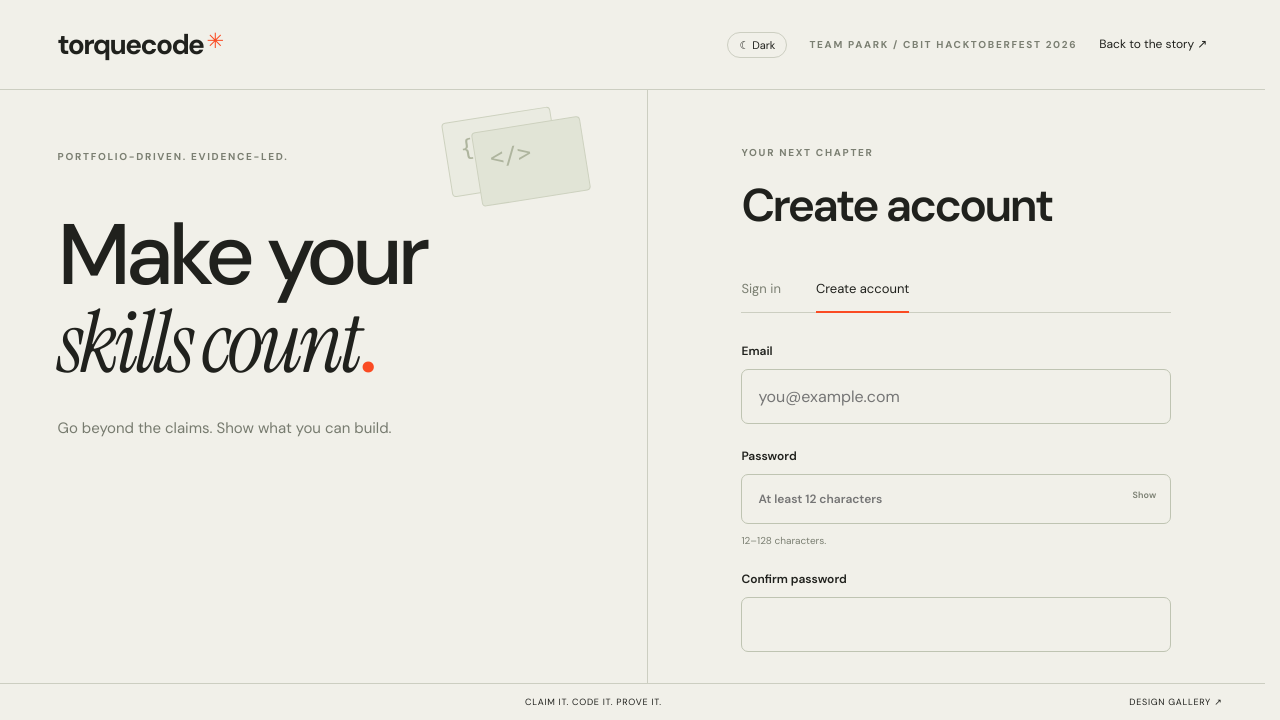
Test: live auth (K2) › registers (201), signs in, and lands on the portfolio step
Step 1. Type "candidate@example.org" into the field labelled "Email" → (956, 396), box [742,369,1172,424]
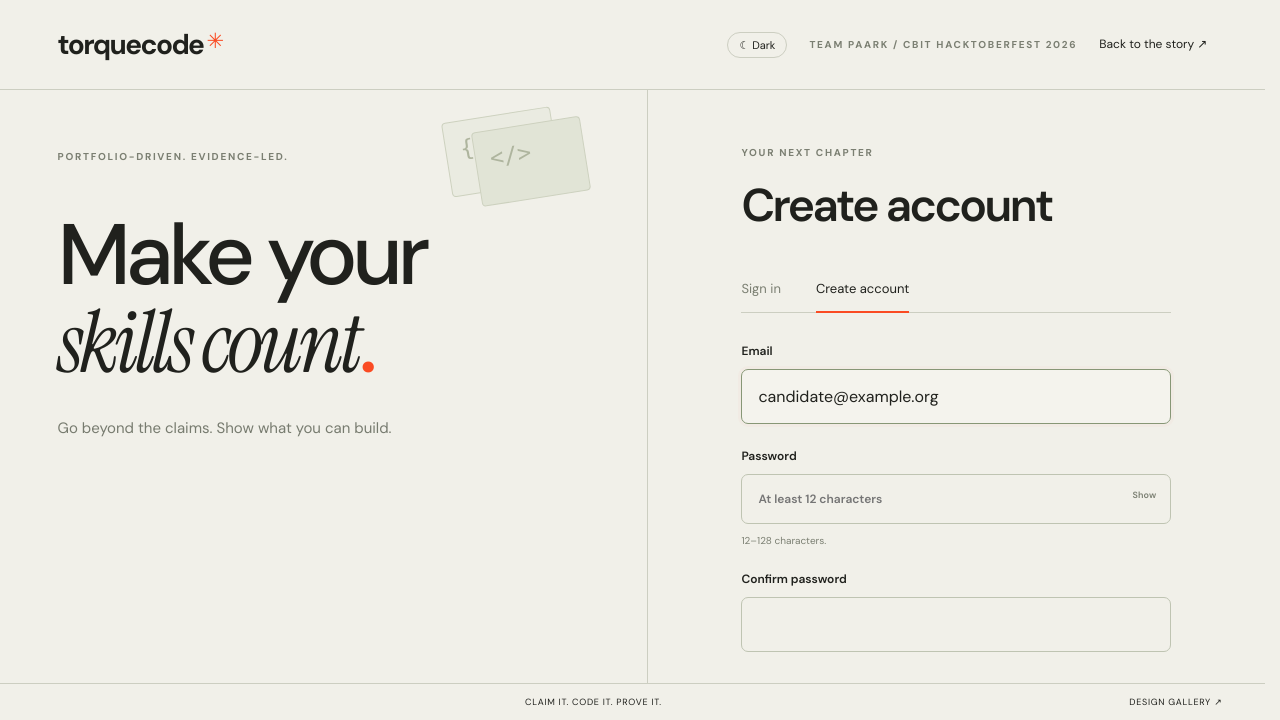
Step 2. Type "correct horse battery" into the password field labelled "Password Show 12–128 characters." → (956, 499), box [742,474,1172,524]
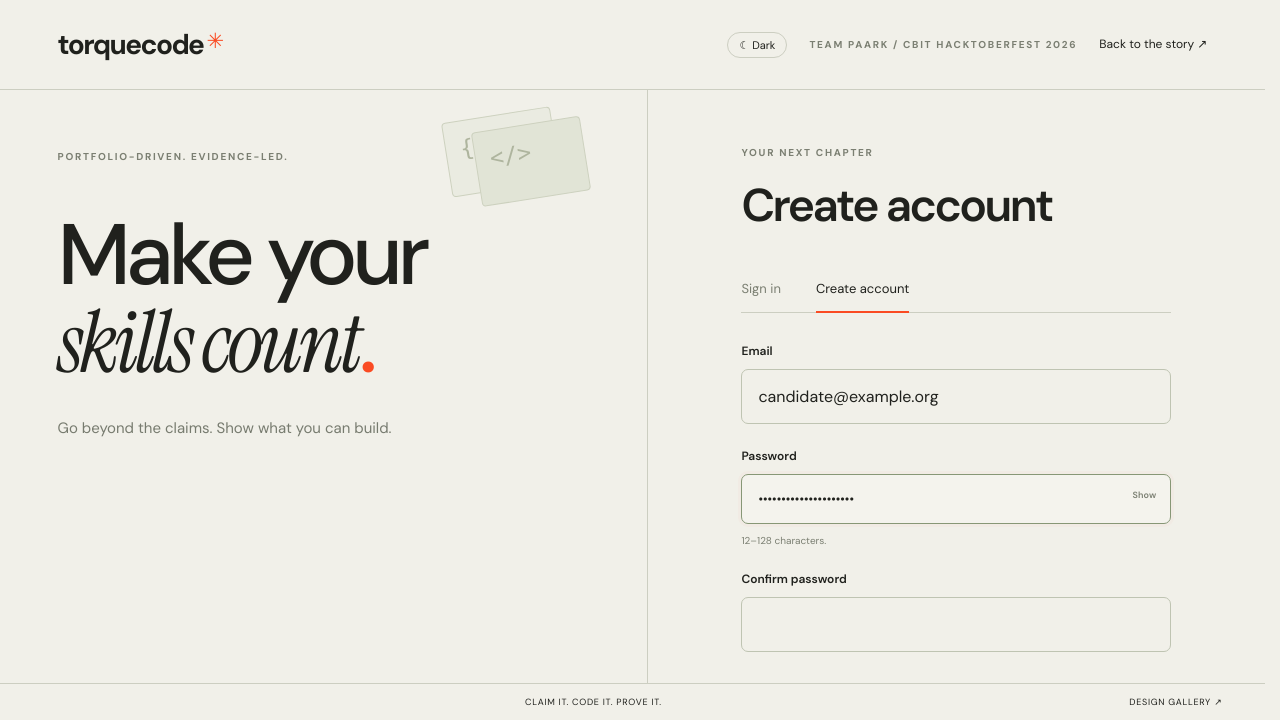
Step 3. Type "correct horse battery" into the password field labelled "Confirm password" → (956, 624), box [742,597,1172,652]
(page scrolled)
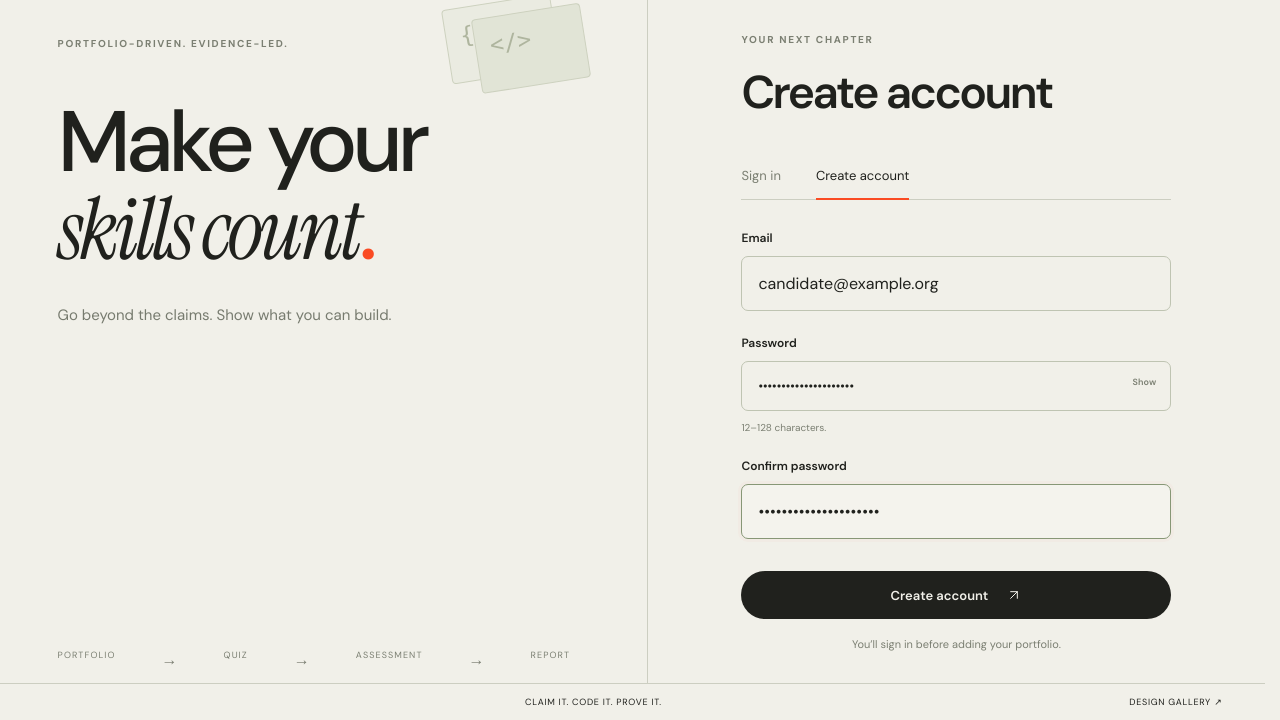
Step 4. Click the button "Create account" → click(956, 595), box [742,571,1172,619]
(page scrolled)
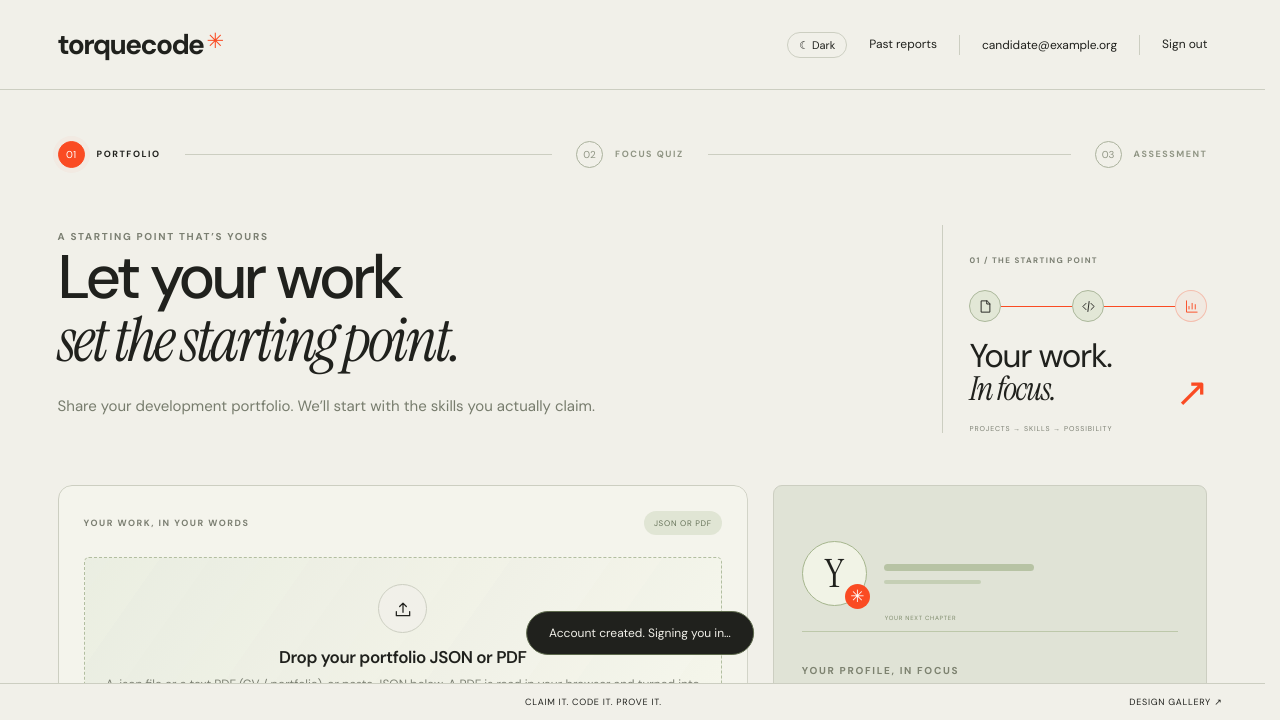
Result: the heading "Let your work" is shown at [58,237,460,380]
